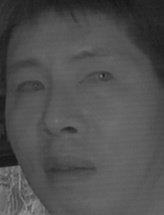eye: (78, 66, 116, 89), (14, 77, 47, 99)
mouth: (35, 151, 98, 188)
